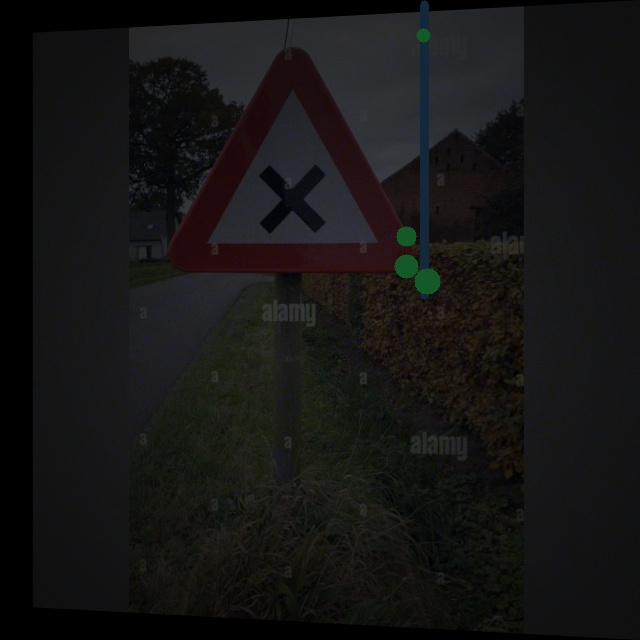Cross_Road: (178, 34, 405, 274)
